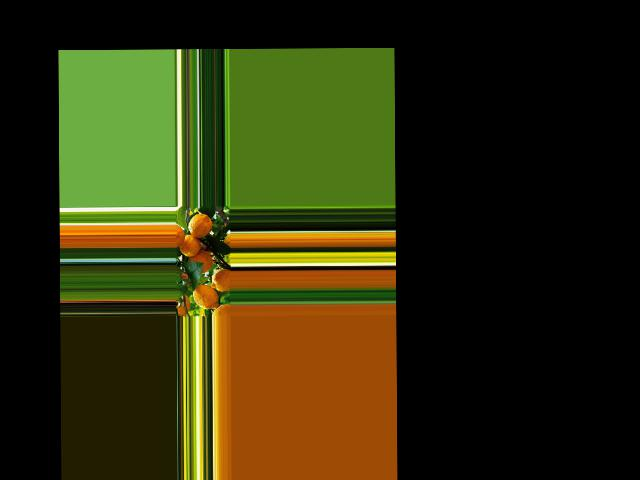lemon: (186, 211, 210, 239)
